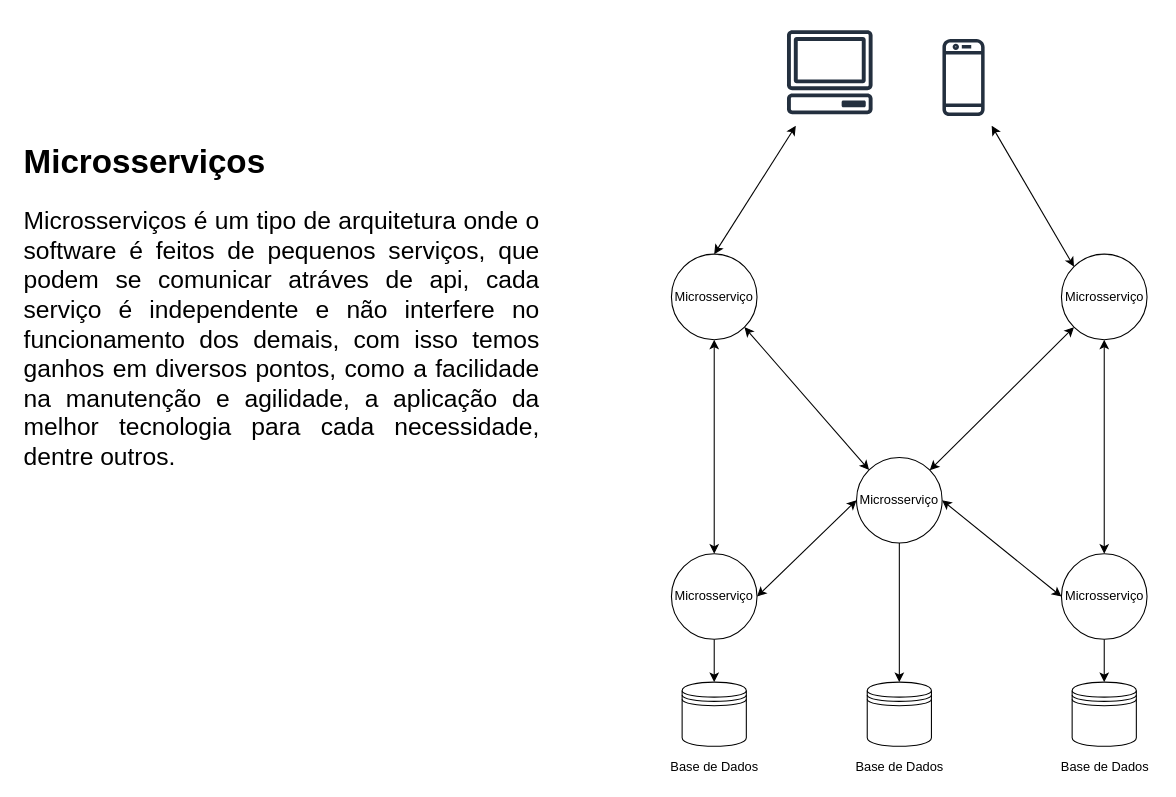
Some shapes in this 1176 by 797 pixel diagram are drawn without their labels. The shapes that lost their labels are listed below. From the top down, each one's centre as x and y in pixels, then its label:
At point 829,72: "Cliente".
At point 963,77: "Mobile Cliente".
